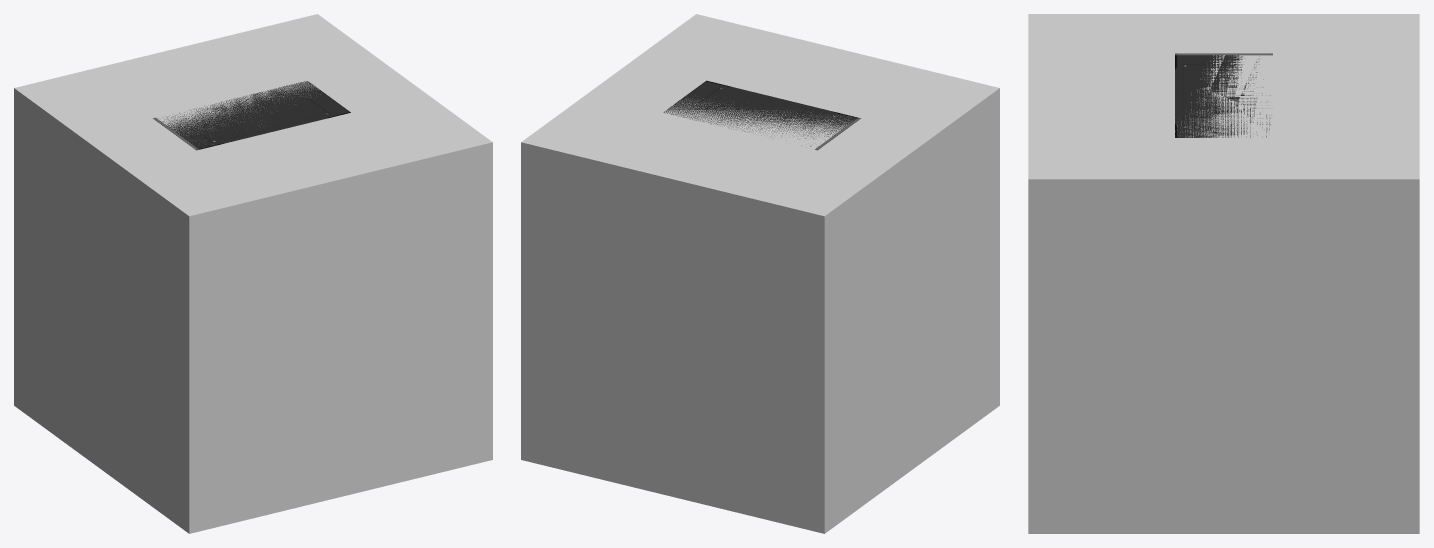
Rendered from OPEN.fbx.
3 views of the same model, side by side, from view 1: azimuth 30°, elevation 25°; view 2: azimuth 150°, elevation 25°; view 3: azimuth 270°, elevation 25° (orthographic). The views are drawn at different scales.
Visible parts, largest first — view 1: Cube, 立方体; view 2: Cube, 立方体; view 3: Cube, 立方体.
Part boxes in pixels (box(x1,y1,x2,y2)): Cube: box(14, 14, 492, 533); 立方体: box(162, 81, 350, 149); Cube: box(521, 14, 999, 533); 立方体: box(663, 80, 857, 146); Cube: box(1028, 14, 1419, 533); 立方体: box(1175, 55, 1270, 137).
Bounding box in the file's own units: 200 × 200 × 200.
